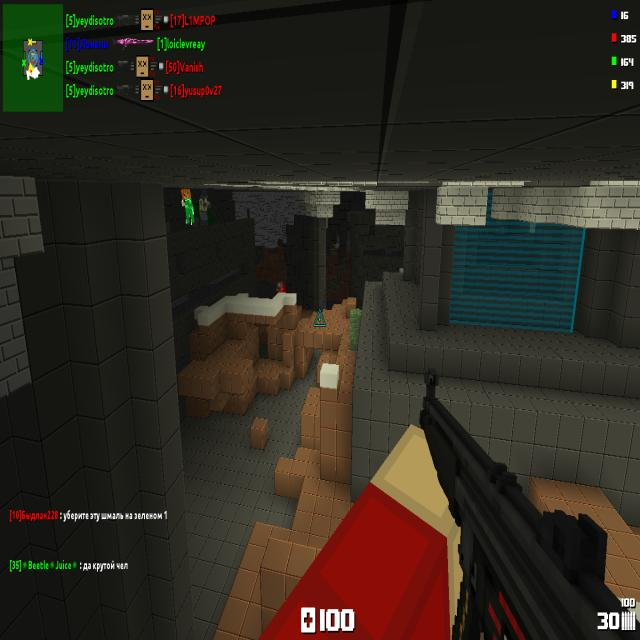enemy: (182, 188, 196, 226), (199, 190, 211, 226), (276, 282, 284, 293)
